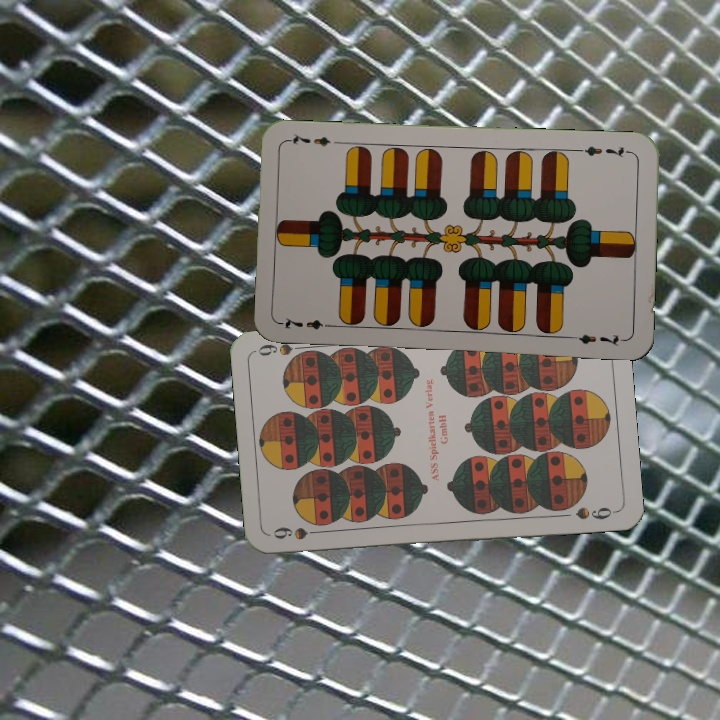E7: (278, 314, 338, 332), (575, 142, 634, 160)
S9: (269, 523, 328, 543)
